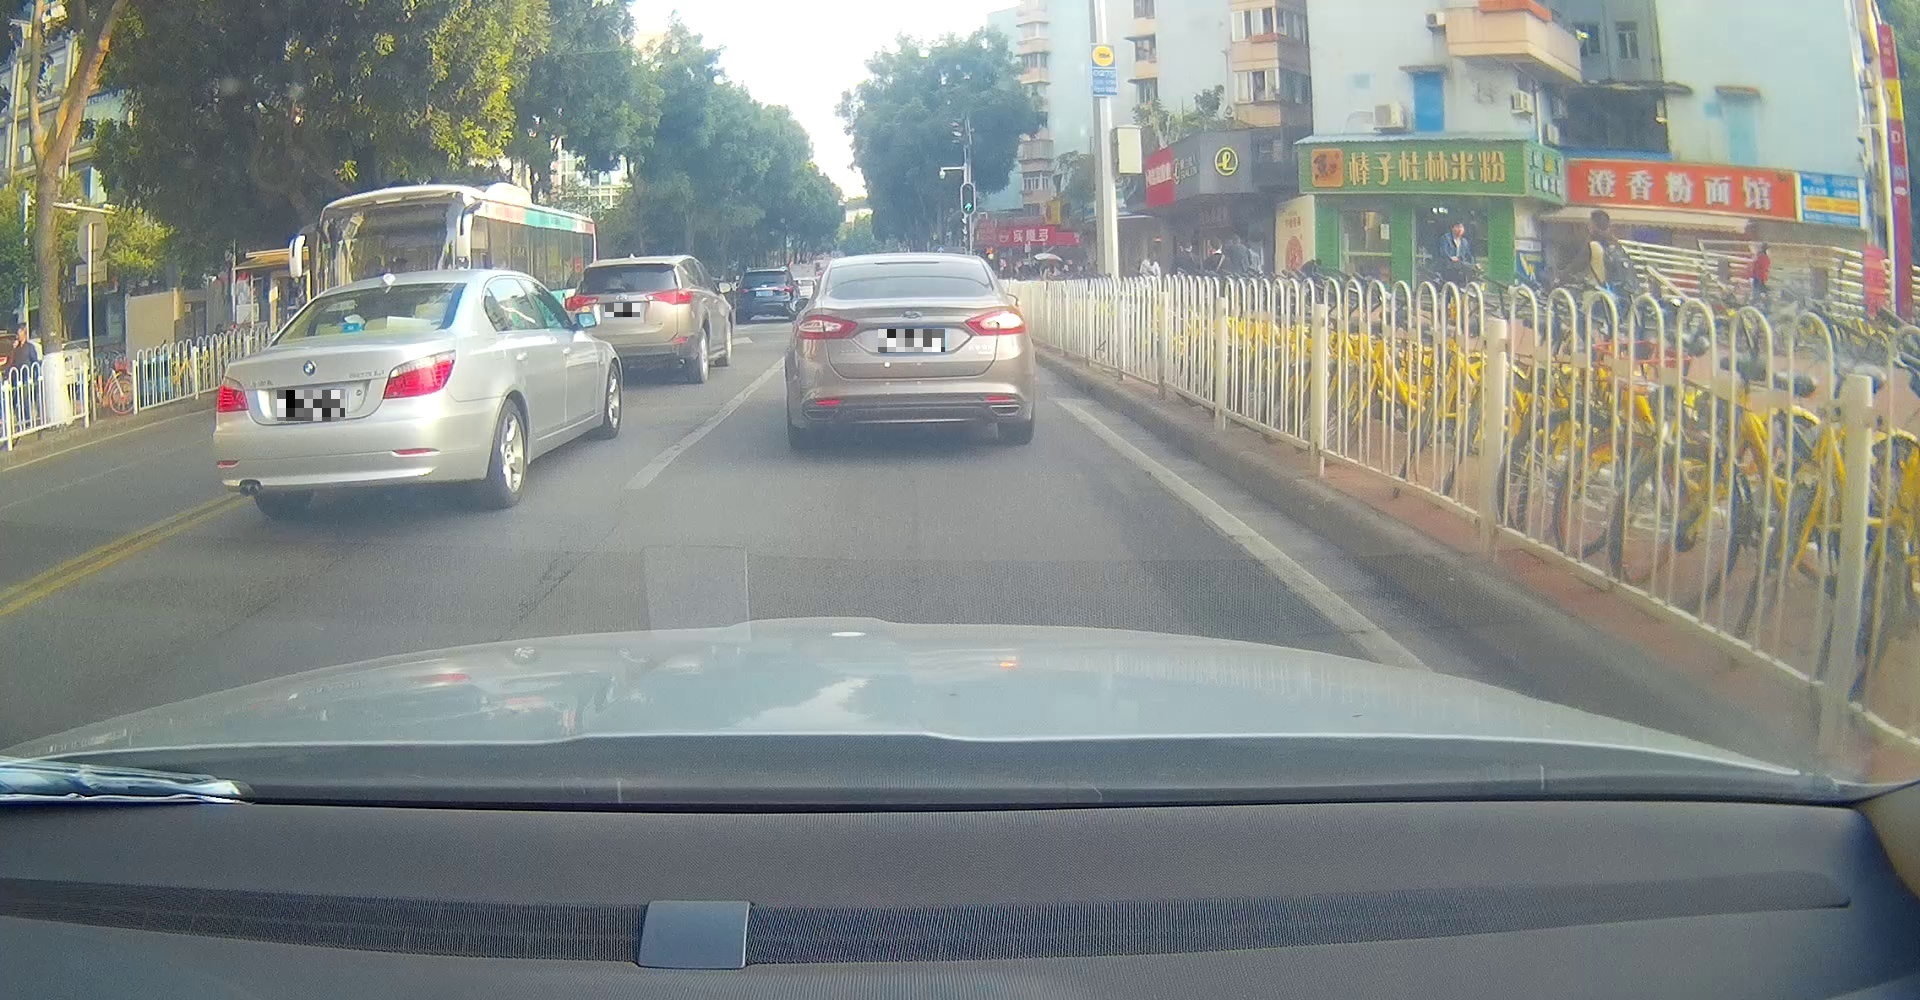L_light: (792, 313, 858, 340), (215, 374, 250, 412), (564, 294, 598, 311)
R_light: (382, 349, 457, 398), (965, 306, 1027, 338), (645, 287, 693, 305)
T_light: (875, 261, 941, 266), (367, 289, 397, 294), (617, 264, 637, 266)
day-no: (211, 269, 471, 515), (783, 253, 1035, 443), (563, 258, 695, 382)
plate_1: (277, 390, 345, 421)
plate_2: (604, 303, 640, 317)
plate_3: (877, 329, 945, 352)
